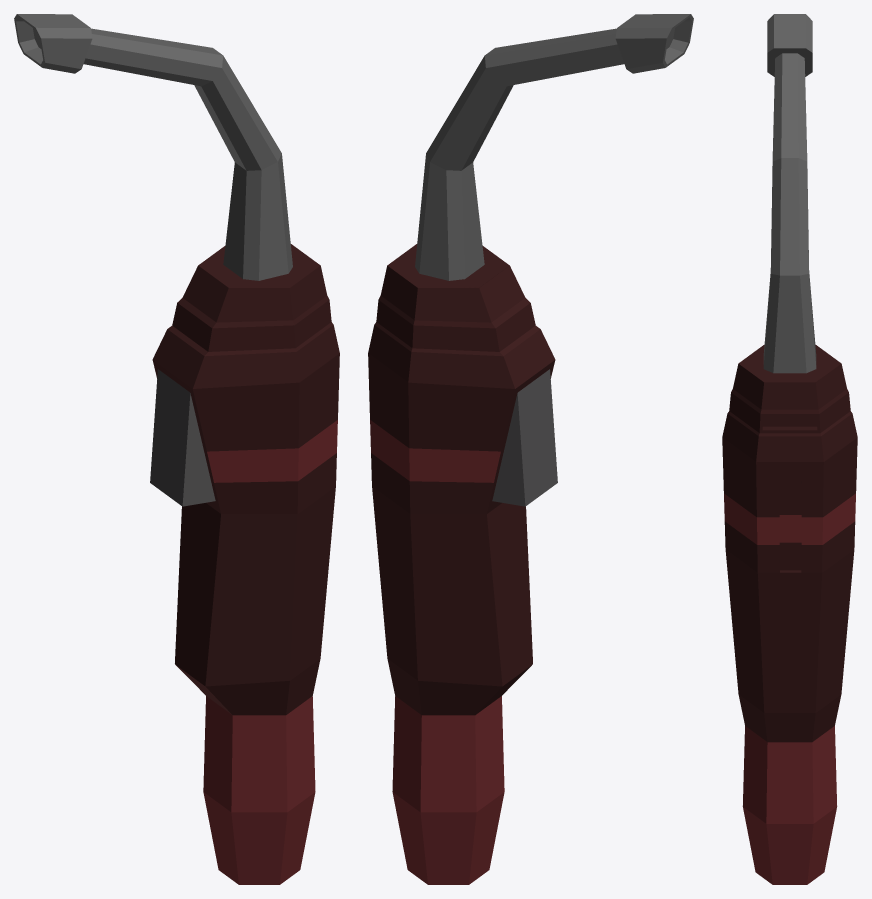
The model's file is thermal-lance-low-poly-screen.fbx.
3 renders of one model, left to right at view 1: azimuth 30°, elevation 25°; view 2: azimuth 150°, elevation 25°; view 3: azimuth 270°, elevation 25°, orthographic. The views are drawn at different scales.
Parts seen in each view (by area): view 1: Cube; view 2: Cube; view 3: Cube.
Boxes of the visible parts, x1,y1,x2,y2 form: Cube: (14,14,339,884); Cube: (368,14,693,884); Cube: (722,14,857,884).
Bounding box in the file's own units: 52.16 × 154 × 24.77.
